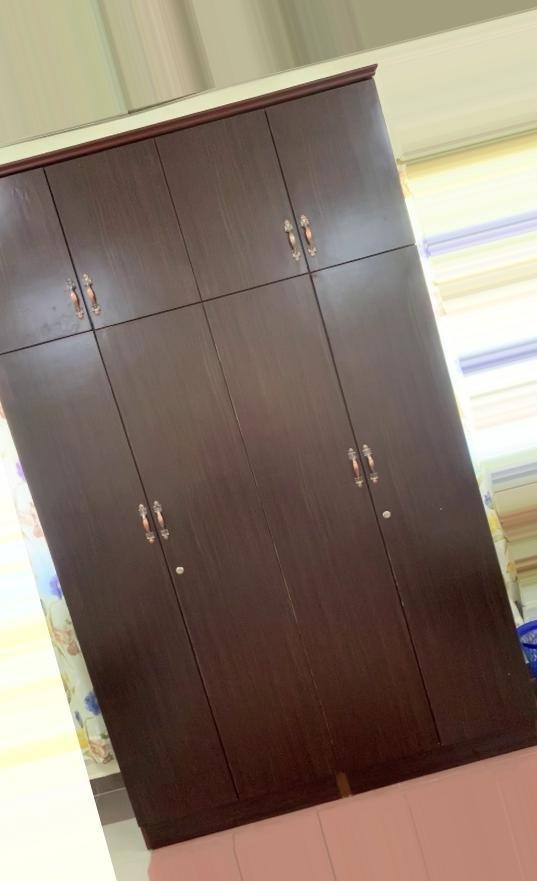Armario: (26, 67, 524, 858)
